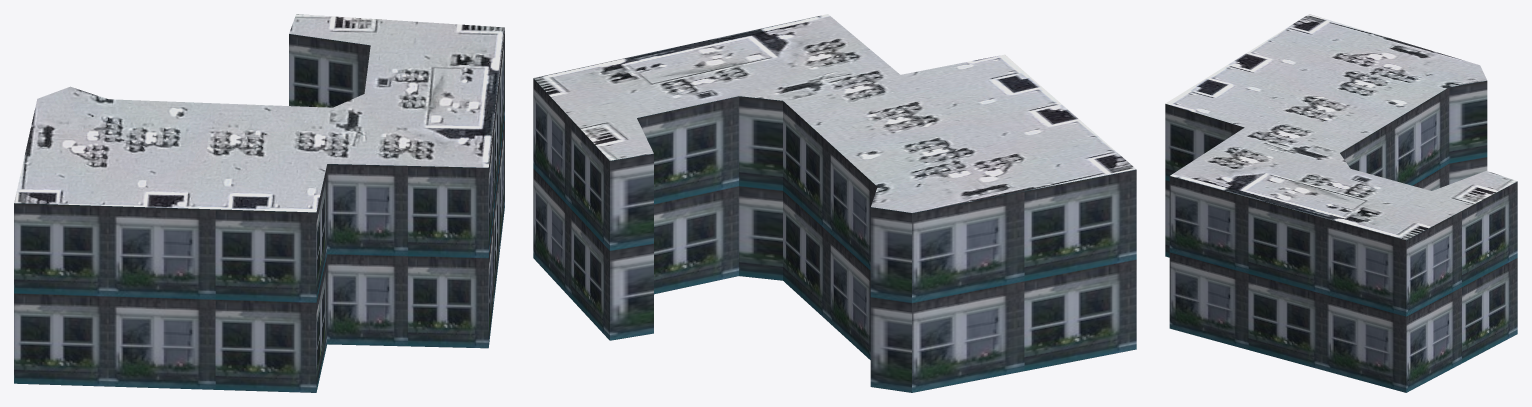
Rendered from ResTex__4497.fbx.
The picture shows the model from 3 angles, left to right: view 1: azimuth 30°, elevation 25°; view 2: azimuth 150°, elevation 25°; view 3: azimuth 270°, elevation 25°; orthographic projection. The views are drawn at different scales.
Parts seen in each view (by area): view 1: CityEngineMaterial_11_m, CityEngineMaterial_m; view 2: CityEngineMaterial_11_m, CityEngineMaterial_m; view 3: CityEngineMaterial_11_m, CityEngineMaterial_m.
Boxes of the visible parts, x1=… form: CityEngineMaterial_11_m: x1=14, y1=28, x2=504, y2=392; CityEngineMaterial_m: x1=14, y1=14, x2=504, y2=212; CityEngineMaterial_11_m: x1=533, y1=78, x2=1136, y2=392; CityEngineMaterial_m: x1=533, y1=14, x2=1136, y2=212; CityEngineMaterial_11_m: x1=1165, y1=80, x2=1517, y2=392; CityEngineMaterial_m: x1=1165, y1=14, x2=1517, y2=239.
Bounding box in the file's own units: 19.06 × 6 × 12.55.
Materials: 2 (2 with a texture image).
